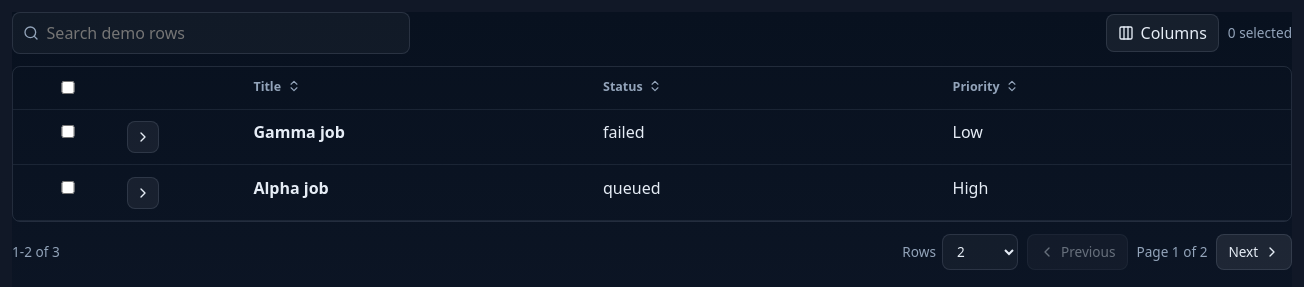
Test: ConsoleTable › supports grouped column controls with section-level show and hide actions
Click the heading "Columns".
click(1163, 33)  # box [1106,14,1219,52]
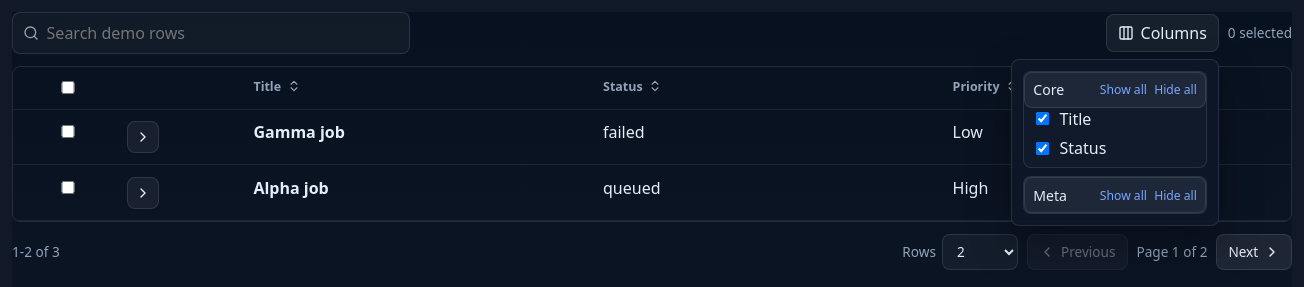
Result: the text "Core" is shown at [1033,80,1064,99]
Result: the text "Meta" is shown at [1033,186,1067,205]
Click the button "Hide all" in the row of "Core".
click(1175, 90)  # box [1154,81,1197,98]
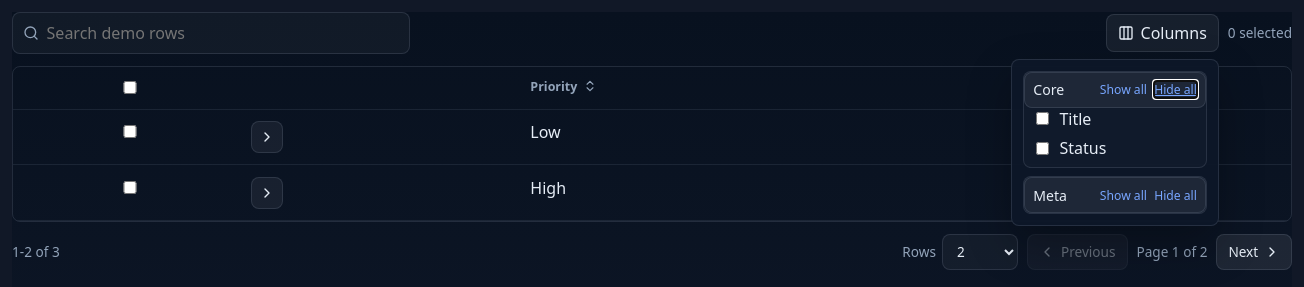
Result: the text "queued" is gone
Click the button "Show all" next to "Core".
click(1123, 90)  # box [1100,81,1147,98]
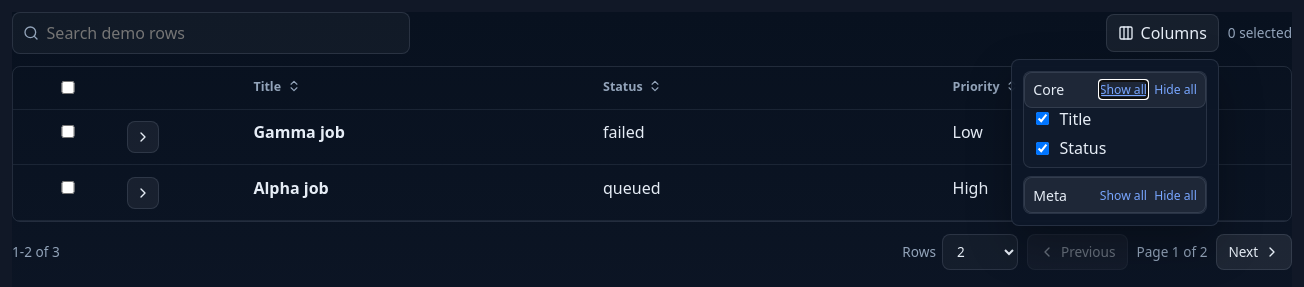
Result: the text "queued" is shown at [592,165,941,220]
